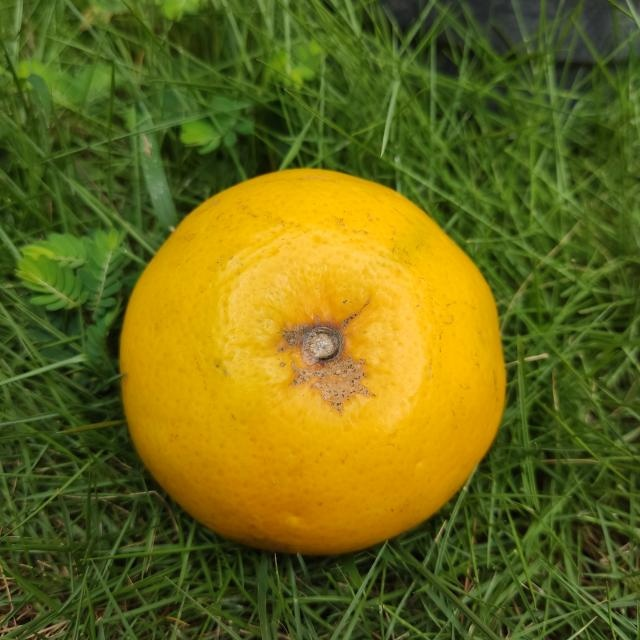agrume: (119, 166, 509, 554)
